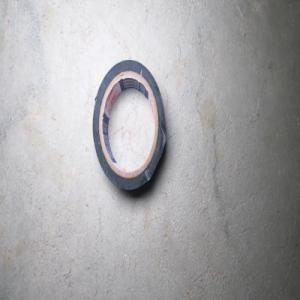Tape: (92, 59, 166, 197)
